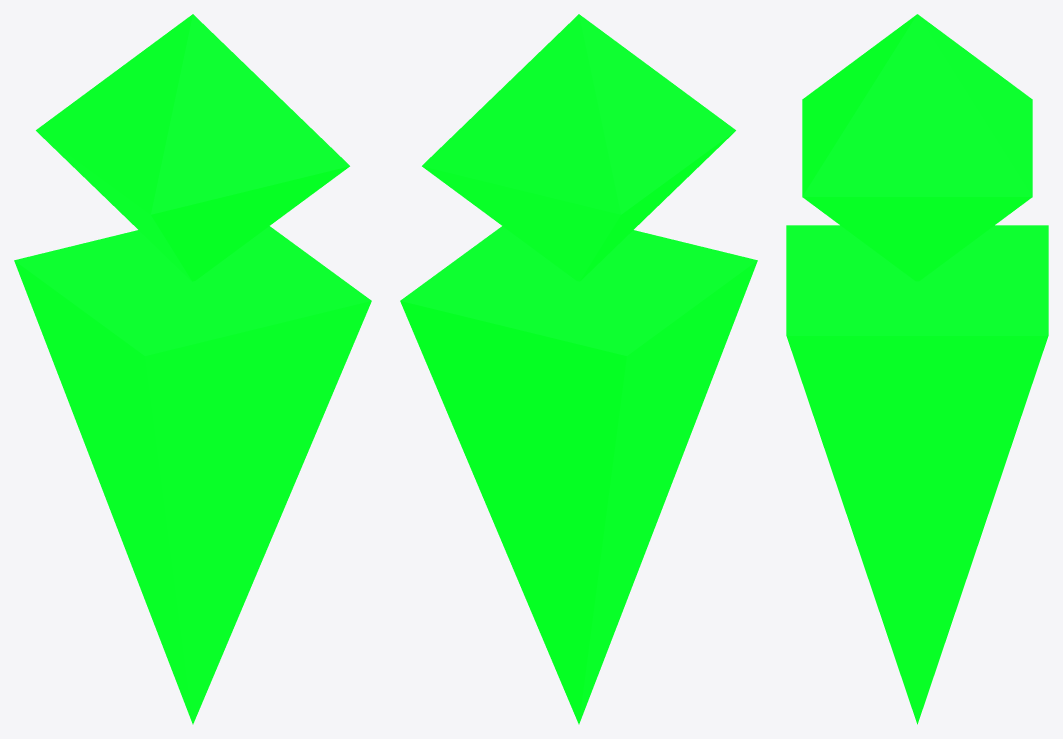
File: person_g01.glb
3 renders of one model, left to right at view 1: azimuth 30°, elevation 25°; view 2: azimuth 150°, elevation 25°; view 3: azimuth 270°, elevation 25°, orthographic.
Parts seen in each view (by area): view 1: person.011; view 2: person.011; view 3: person.011.
Part boxes in pixels (x1,y1,x2,y2): person.011: (14,14,371,724); person.011: (400,14,757,724); person.011: (786,14,1048,724).
Size of the model in its own units: 0.7 by 2.1 by 0.7.
